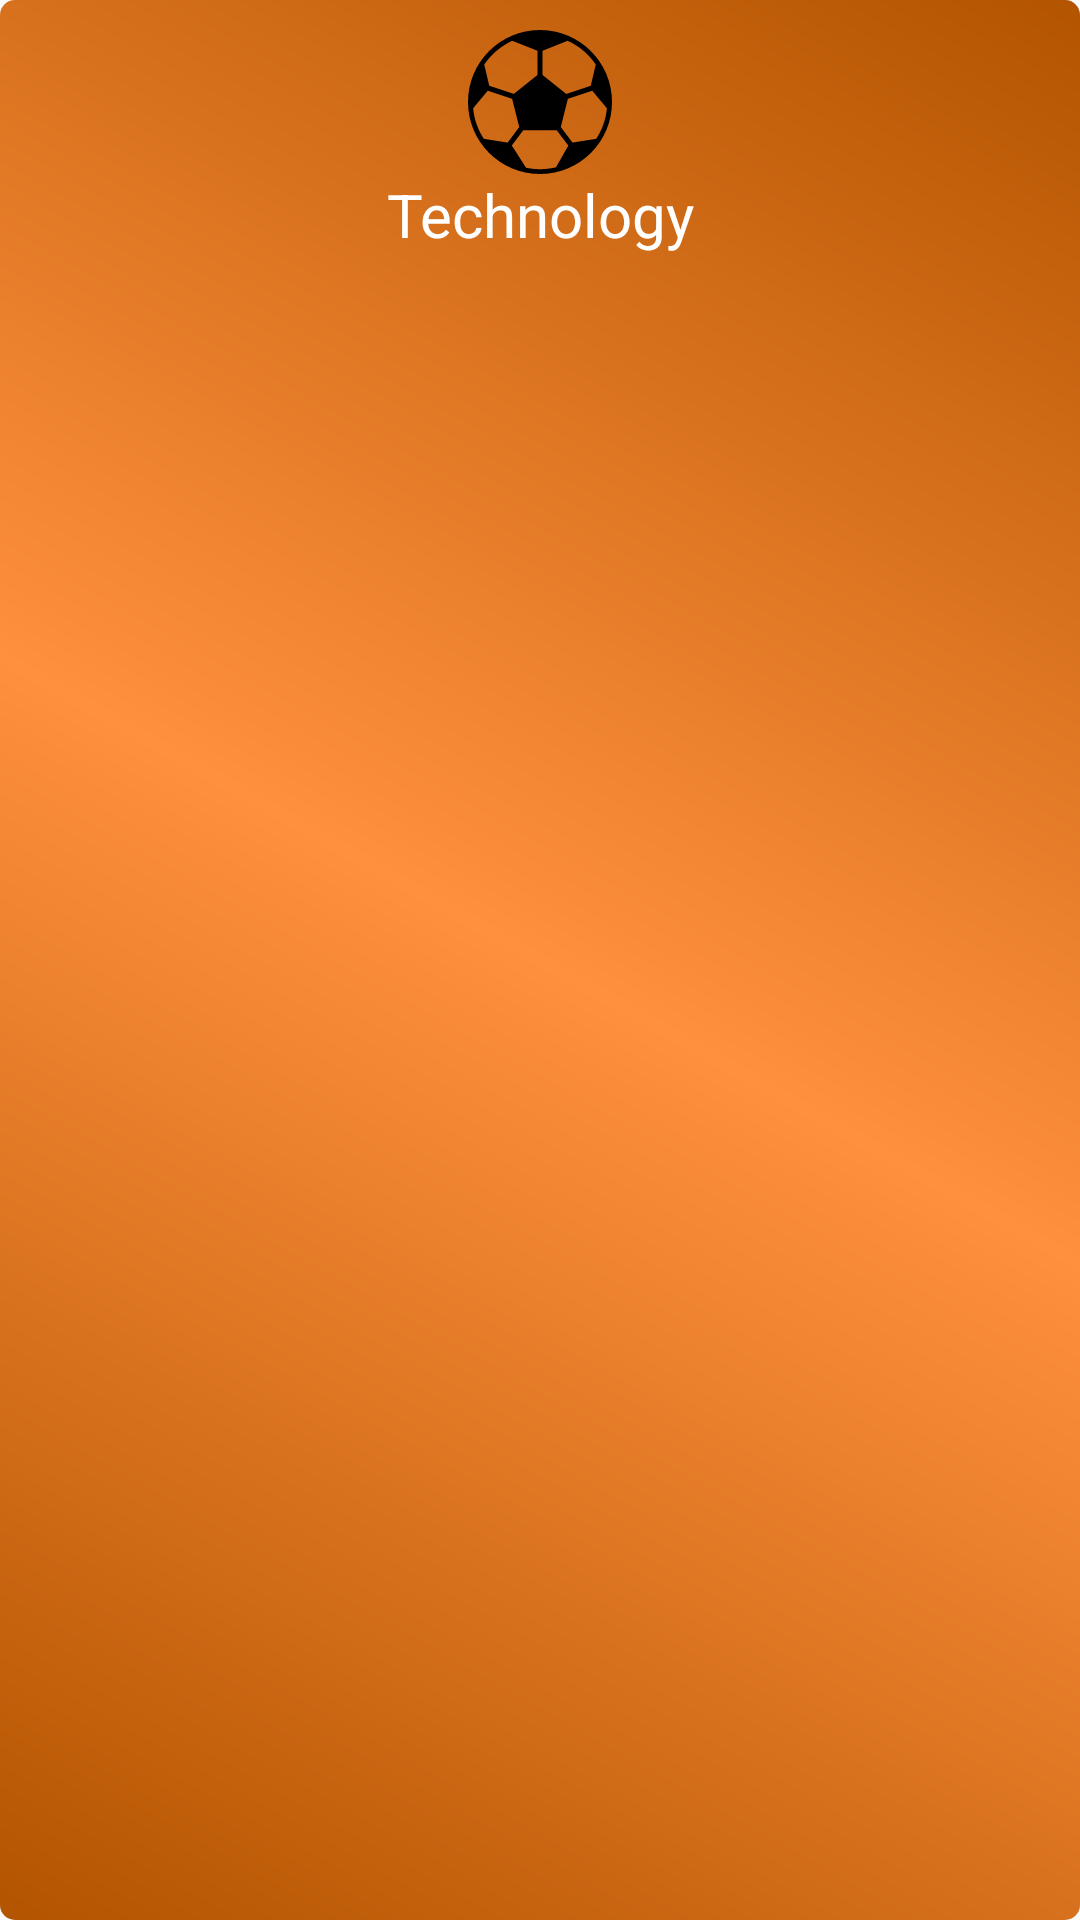

Named icons in this screenshot (1080*1920) and their centers, (x=x, y=y):
sports: (x=540, y=102)
